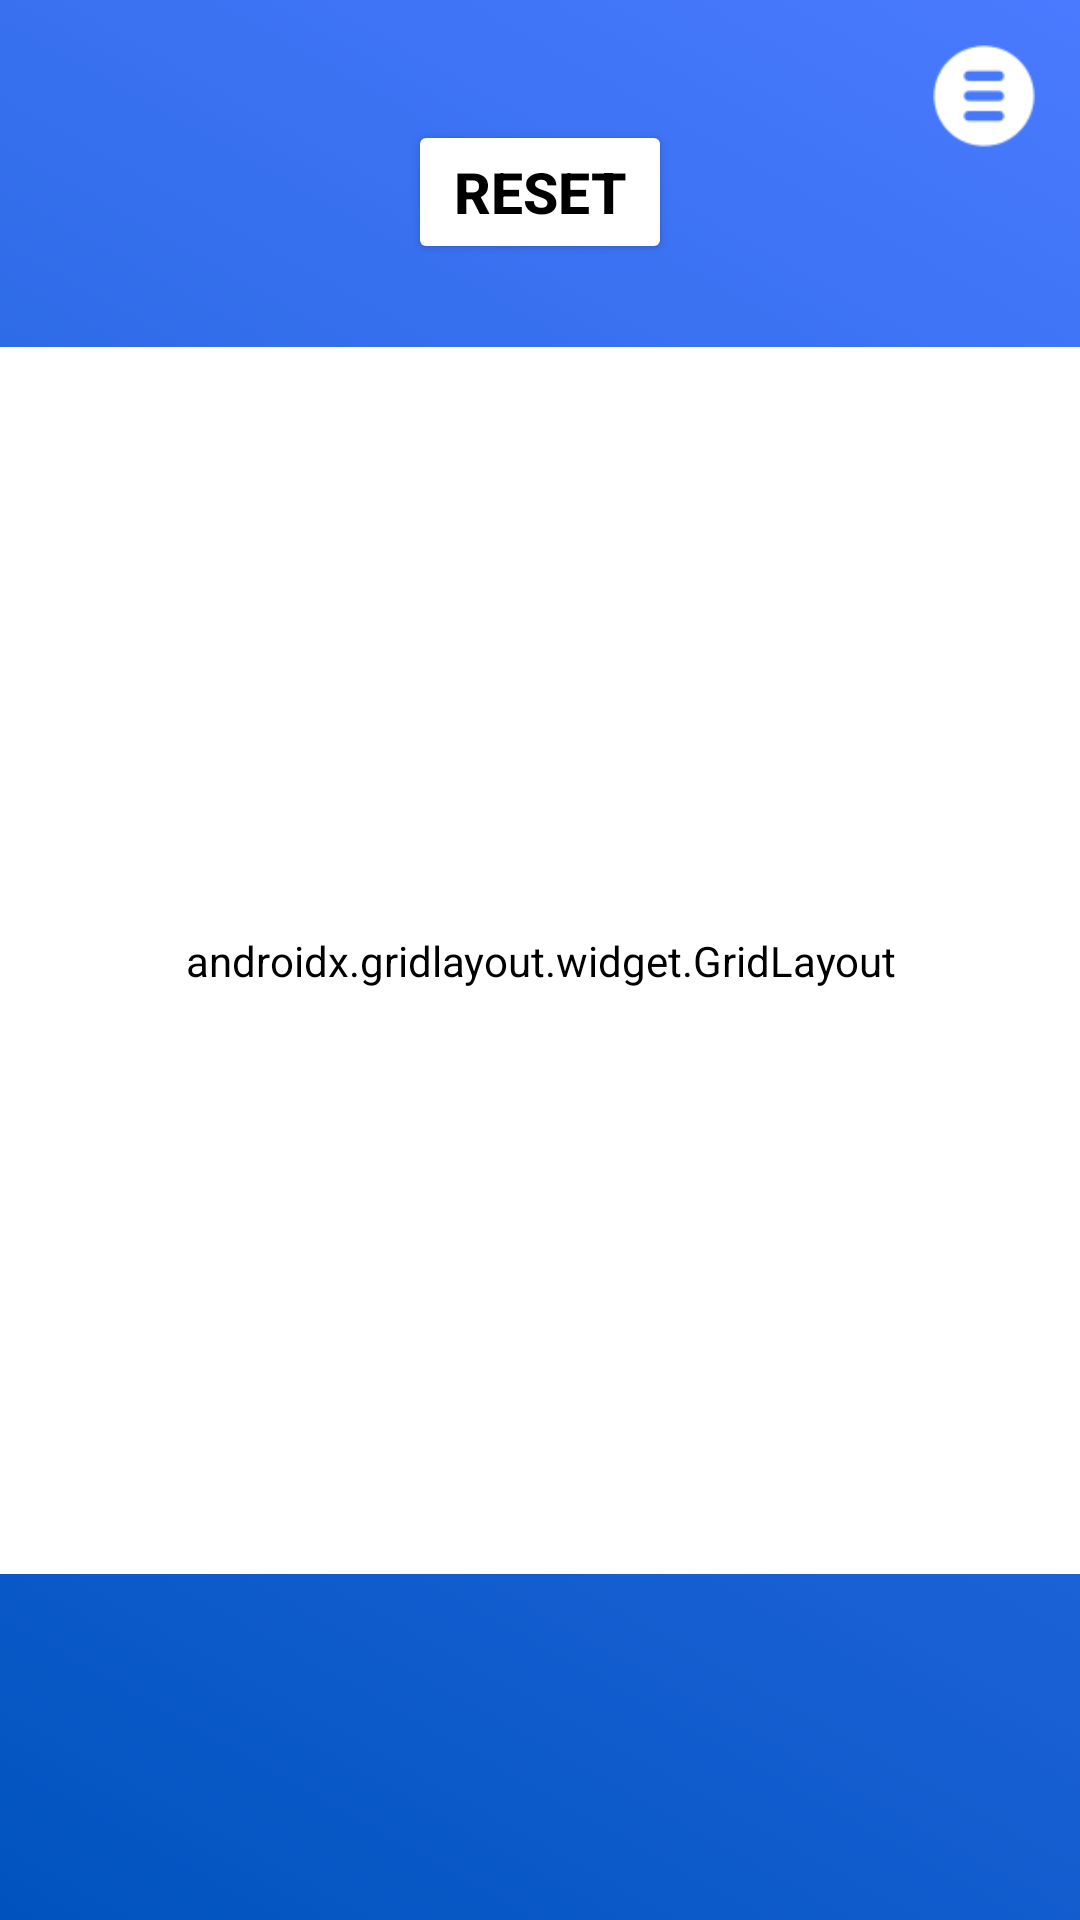

Icon click points for this 1080px x 1920px phone screenshot, format point (x, y):
menu: point (984, 96)
